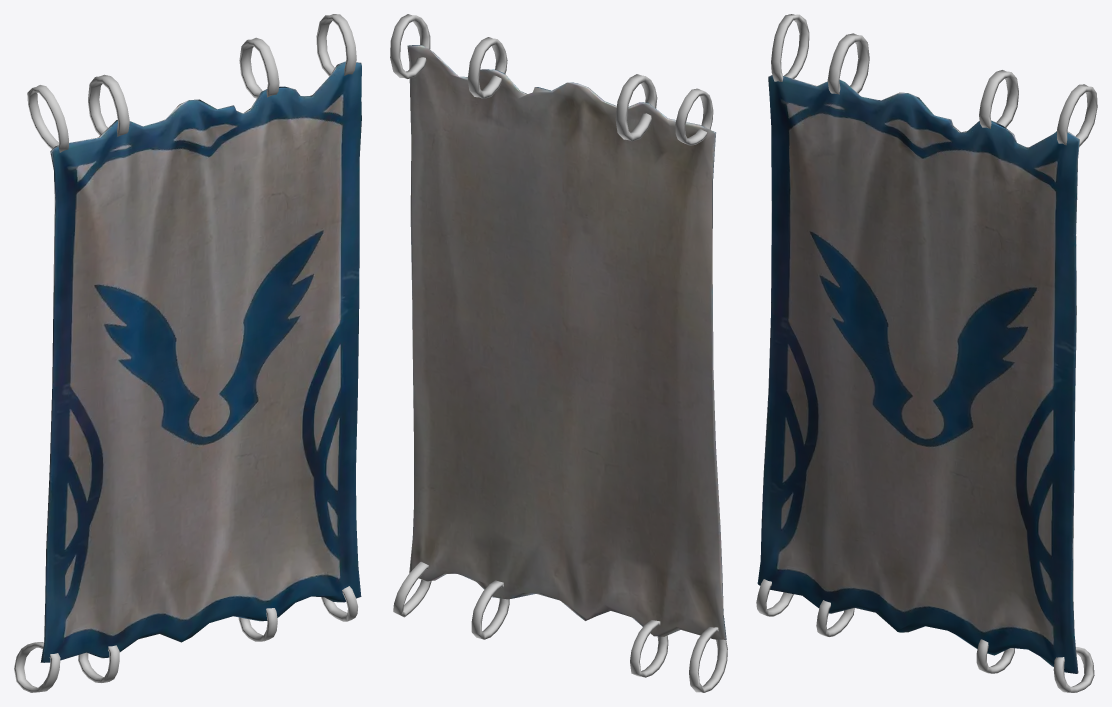
The picture shows the model from 3 angles, left to right: view 1: azimuth 30°, elevation 25°; view 2: azimuth 150°, elevation 25°; view 3: azimuth 330°, elevation 25°; orthographic projection.
Visible parts, largest first — view 1: SM_Framed_Banner_Armadyl_01v1_LOD0; view 2: SM_Framed_Banner_Armadyl_01v1_LOD0; view 3: SM_Framed_Banner_Armadyl_01v1_LOD0.
Boxes of the visible parts, x1,y1,x2,y2 form: SM_Framed_Banner_Armadyl_01v1_LOD0: (14,14,361,692); SM_Framed_Banner_Armadyl_01v1_LOD0: (390,14,727,692); SM_Framed_Banner_Armadyl_01v1_LOD0: (756,14,1097,692).
Size of the model in its own units: 1.17 by 2.1 by 0.2199.
